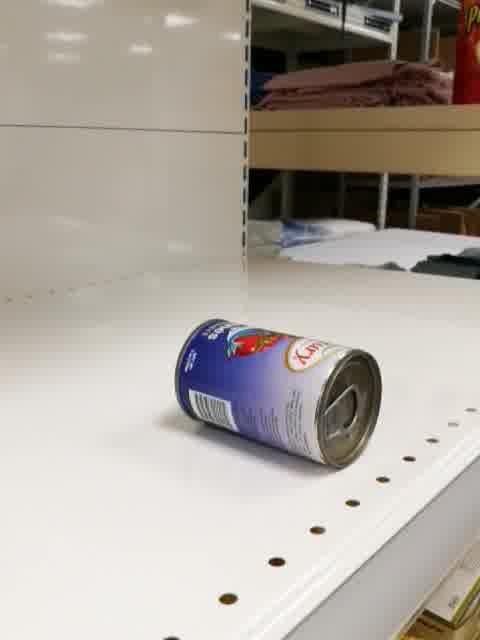sardine: (174, 319, 383, 469)
